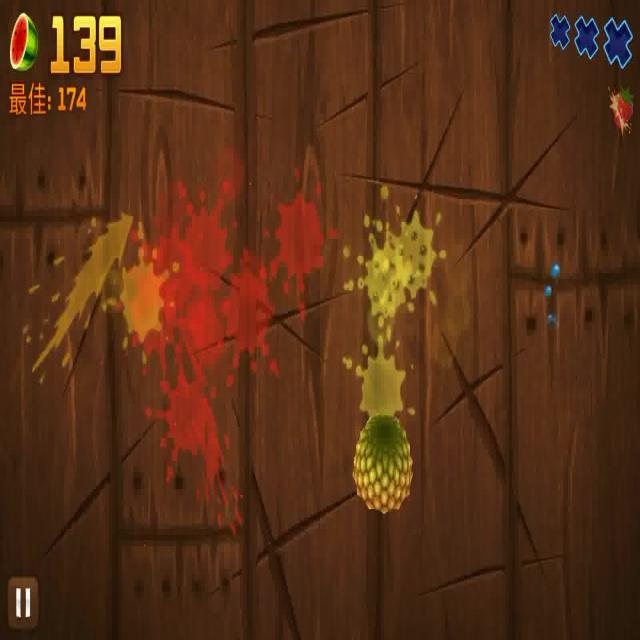fruit: (352, 408, 416, 522)
